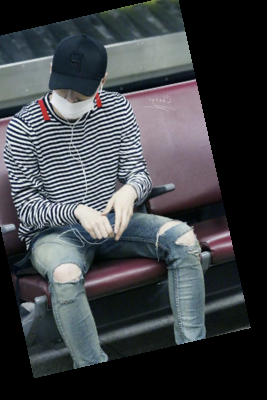mask_weared_incorrect: (33, 32, 135, 127)
